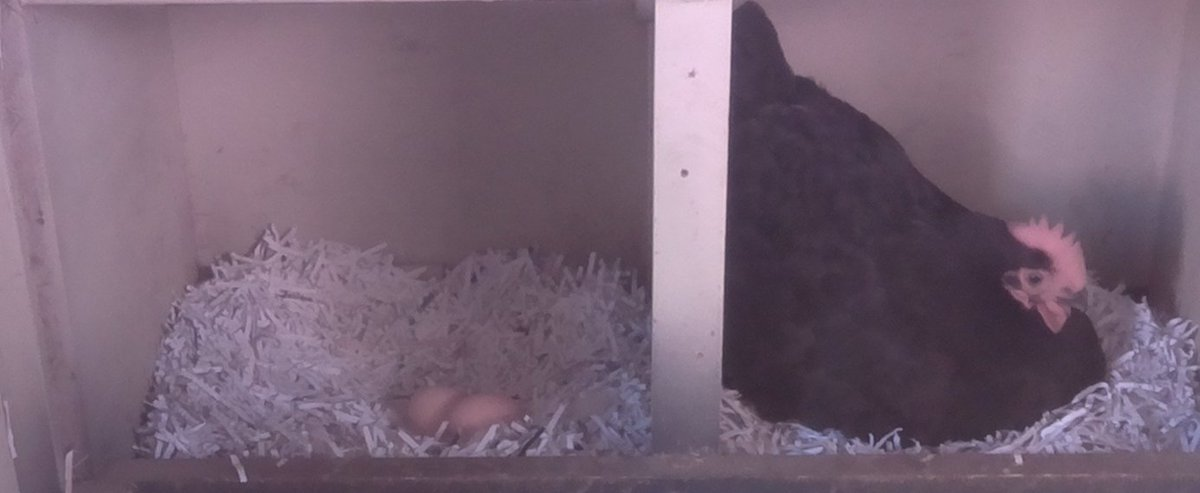egg: (445, 388, 523, 442), (402, 379, 465, 436)
hen: (731, 53, 1111, 451)
